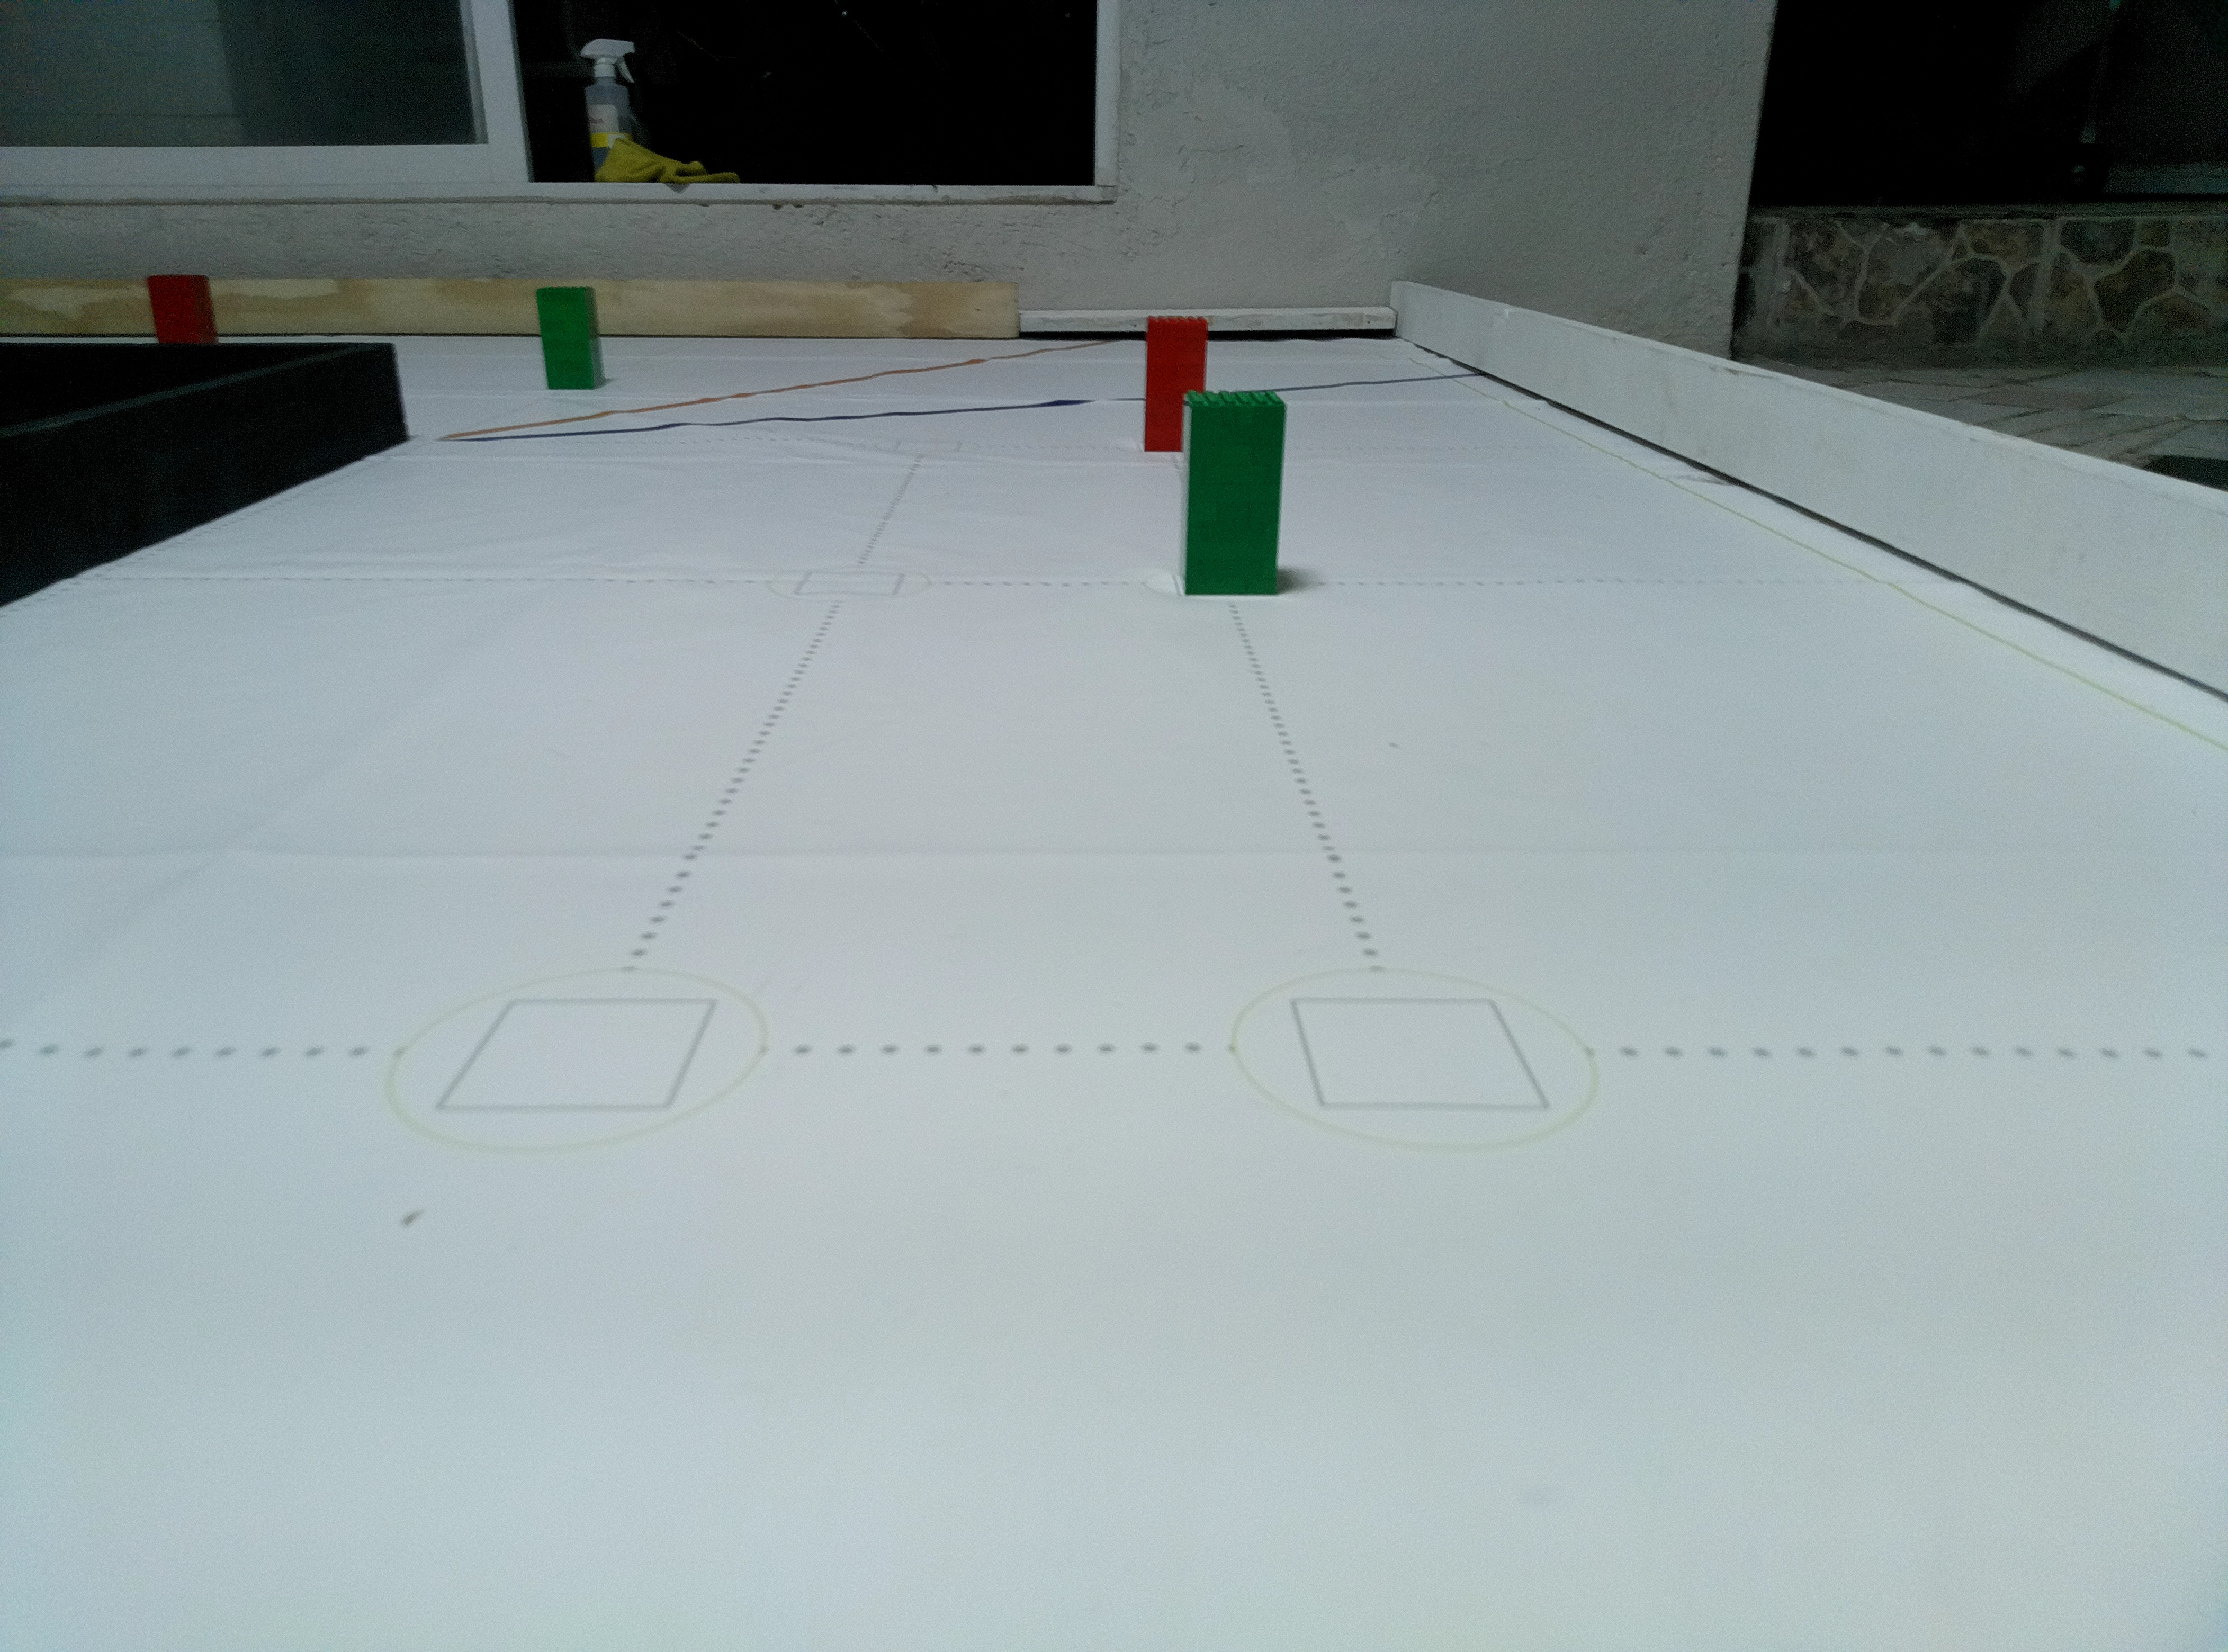greenbox: (1171, 387, 1289, 599), (534, 285, 609, 390)
redbox: (1142, 314, 1209, 455), (142, 274, 224, 344)
